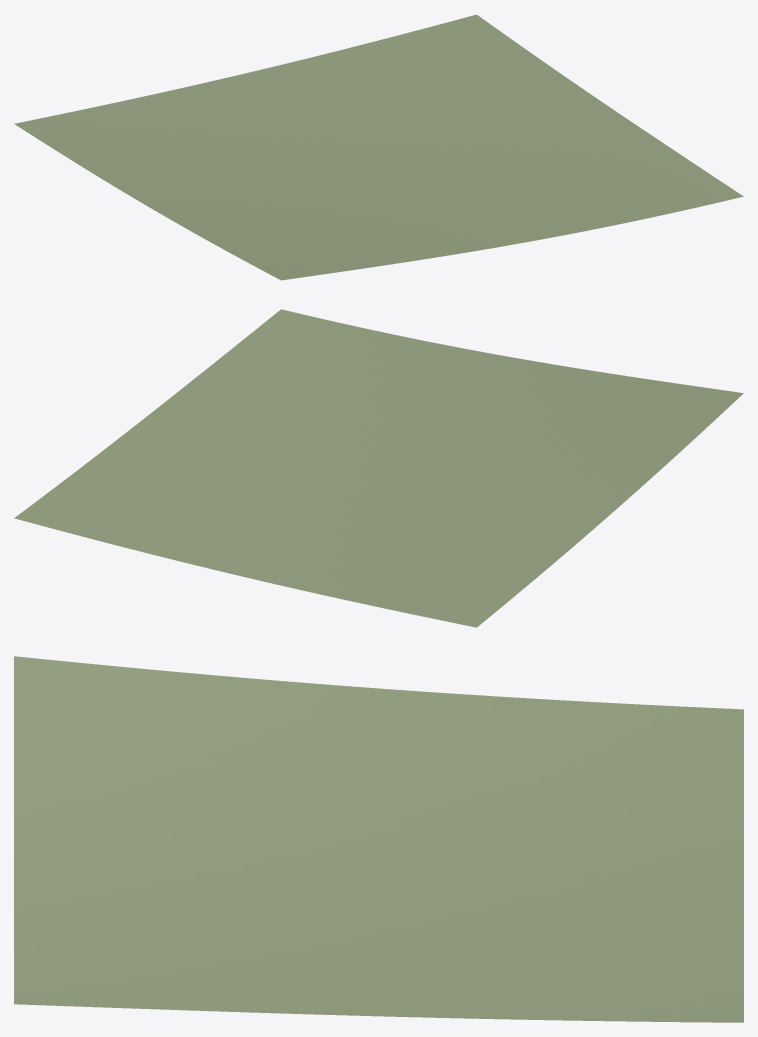
The model's file is expanse-18-15.glb.
3 views of the same model, one above another, from view 1: azimuth 30°, elevation 25°; view 2: azimuth 150°, elevation 25°; view 3: azimuth 270°, elevation 25° (orthographic). The views are drawn at different scales.
Visible parts, largest first — view 1: expanse-18-15; view 2: expanse-18-15; view 3: expanse-18-15.
Boxes of the visible parts, x1,y1,x2,y2 form: expanse-18-15: [14, 14, 743, 280]; expanse-18-15: [14, 309, 743, 627]; expanse-18-15: [14, 656, 743, 1022].
Size of the model in its own units: 256 by 23.87 by 256.
